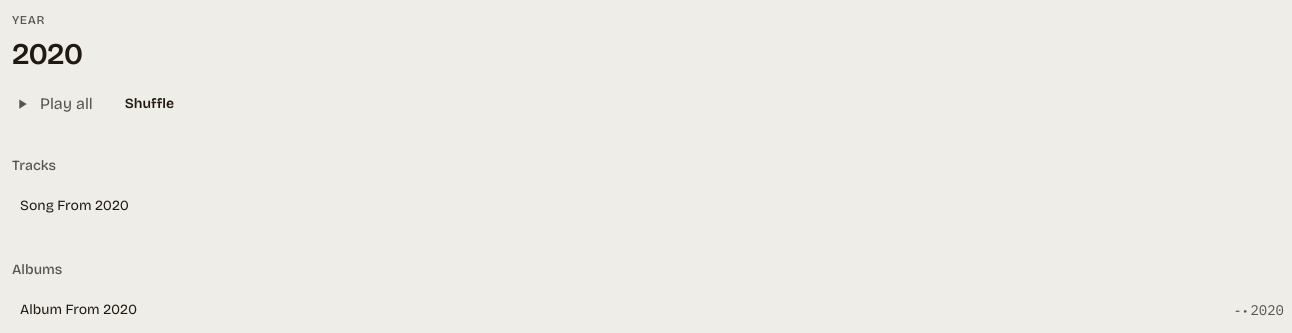
Scenario: Year › opens a Play/Shuffle menu from the title header
expect the text "Song From 2020" is shown: met, box [20, 196, 129, 216]
Right-click the heading "2020": (47, 54) [12, 36, 82, 72]
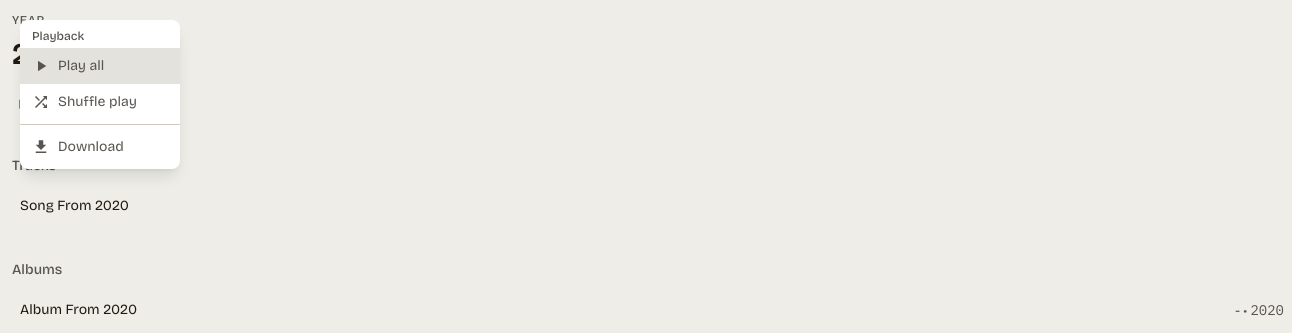
expect the menu is shown: met, box [20, 20, 180, 169]
expect the menu item "Play all" is shown: met, box [20, 48, 180, 84]
expect the menu item "Shuffle play" is shown: met, box [20, 84, 180, 120]
